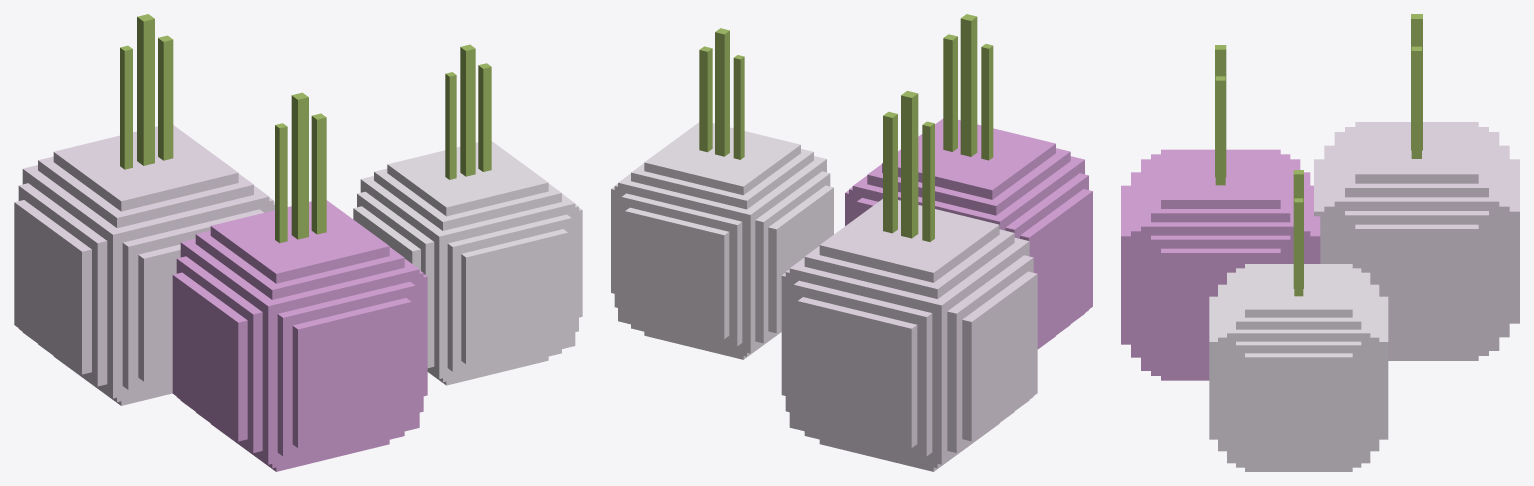
File: onions.gltf
The picture shows the model from 3 angles, left to right: view 1: azimuth 30°, elevation 25°; view 2: azimuth 150°, elevation 25°; view 3: azimuth 270°, elevation 25°; orthographic projection. The views are drawn at different scales.
Visible parts, largest first — view 1: side_1 (×2), side_1_1, mid_4_4, mid_4_1, main_1, TOP1_4, TOP1_1, main_4, main, TOP1, TOP_4 (×2), side_1_4 (+21 smaller); view 2: mid_1_4, mid_1, mid_4_4, main_4, TOP1_4, mid_4_1, main, TOP1, TOP1_1, mid_2_4, TOP_4 (×2), mid_4 (+21 smaller); view 3: das_4, das, das_1, TOP1_4, TOP1_1, main_4, main, TOP1, main_1, sdaasd_4, sdaasd, sdaasd_1 (+24 smaller).
Part boxes in pixels (x1,y1,x2,y2): side_1 (×2): [277, 229, 568, 456]; side_1_1: [292, 298, 411, 448]; mid_4_4: [14, 200, 91, 374]; mid_4_1: [172, 272, 247, 441]; main_1: [180, 238, 419, 464]; TOP1_4: [53, 125, 238, 211]; TOP1_1: [210, 200, 389, 283]; main_4: [22, 165, 269, 398]; main: [360, 176, 575, 378]; TOP1: [387, 141, 548, 216]; TOP_4 (×2): [38, 72, 456, 228]; side_1_4: [138, 244, 180, 381]; mid_1_4: [797, 297, 917, 448]; mid_1: [625, 207, 729, 339]; mid_4_4: [962, 271, 1037, 441]; main_4: [789, 237, 1029, 464]; TOP1_4: [819, 199, 999, 282]; mid_4_1: [1020, 189, 1092, 346]; main: [618, 156, 826, 353]; TOP1: [644, 122, 800, 195]; TOP1_1: [882, 118, 1055, 199]; mid_2_4: [793, 280, 932, 456]; TOP_4 (×2): [733, 55, 1014, 298]; mid_4: [768, 185, 833, 333]; das_4: [1355, 224, 1478, 340]; das: [1245, 353, 1352, 454]; das_1: [1161, 248, 1280, 361]; TOP1_4: [1355, 122, 1478, 183]; TOP1_1: [1161, 149, 1280, 208]; main_4: [1334, 132, 1499, 350]; main: [1227, 272, 1370, 463]; TOP1: [1245, 264, 1352, 317]; main_1: [1141, 159, 1300, 370]; sdaasd_4: [1345, 211, 1488, 345]; sdaasd: [1236, 341, 1361, 458]; sdaasd_1: [1151, 235, 1290, 366].
Size of the model in its own units: 207 by 157 by 179.
